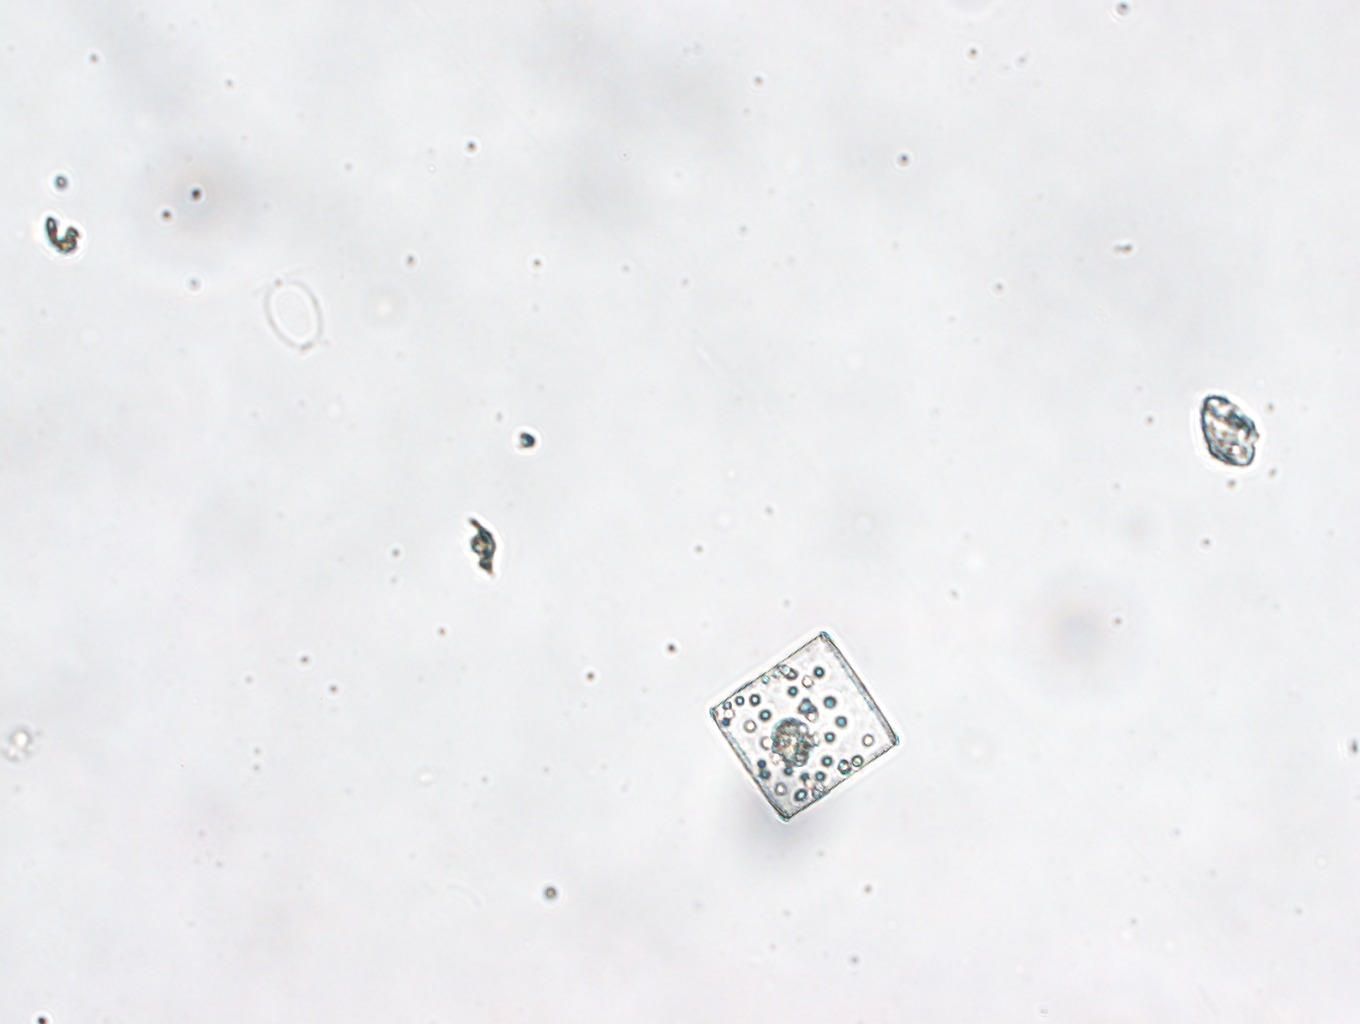guinardia flaccida: (708, 632, 897, 823)
